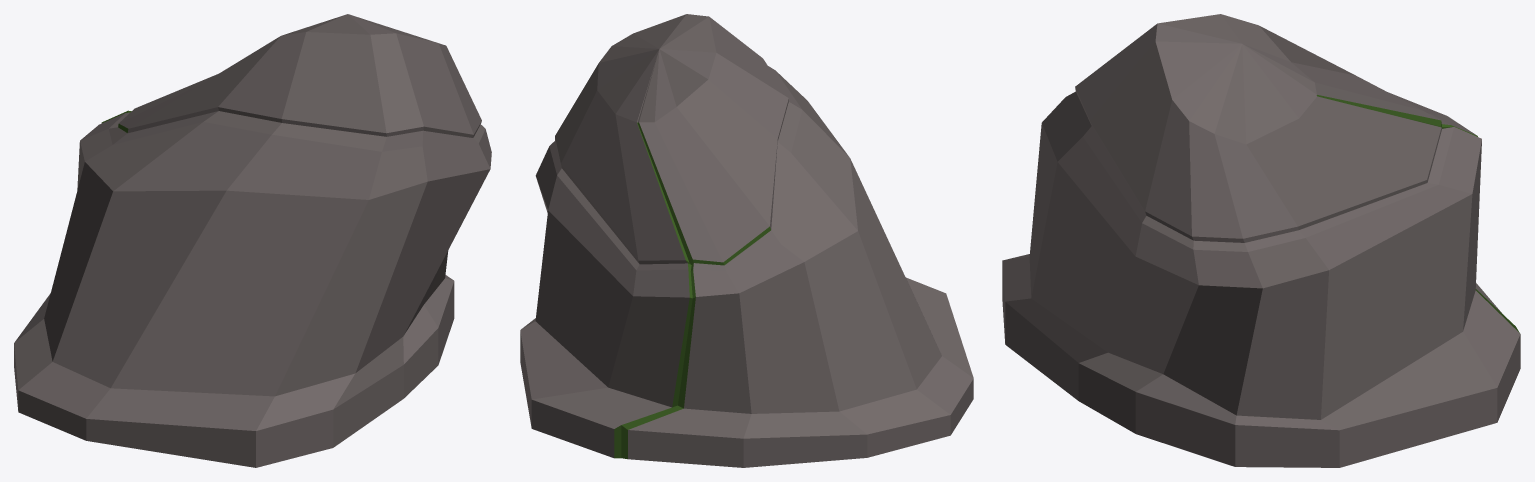
File: roccia3.fbx
3 views of the same model, side by side, from view 1: azimuth 30°, elevation 25°; view 2: azimuth 150°, elevation 25°; view 3: azimuth 270°, elevation 25° (orthographic). The views are drawn at different scales.
Visible parts, largest first — view 1: roccia3; view 2: roccia3; view 3: roccia3.
Part boxes in pixels (box(x1,y1,x2,y2)): roccia3: box(14, 14, 491, 467); roccia3: box(520, 14, 973, 467); roccia3: box(1002, 14, 1520, 467).
Bounding box in the file's own units: 340 × 247 × 306.
